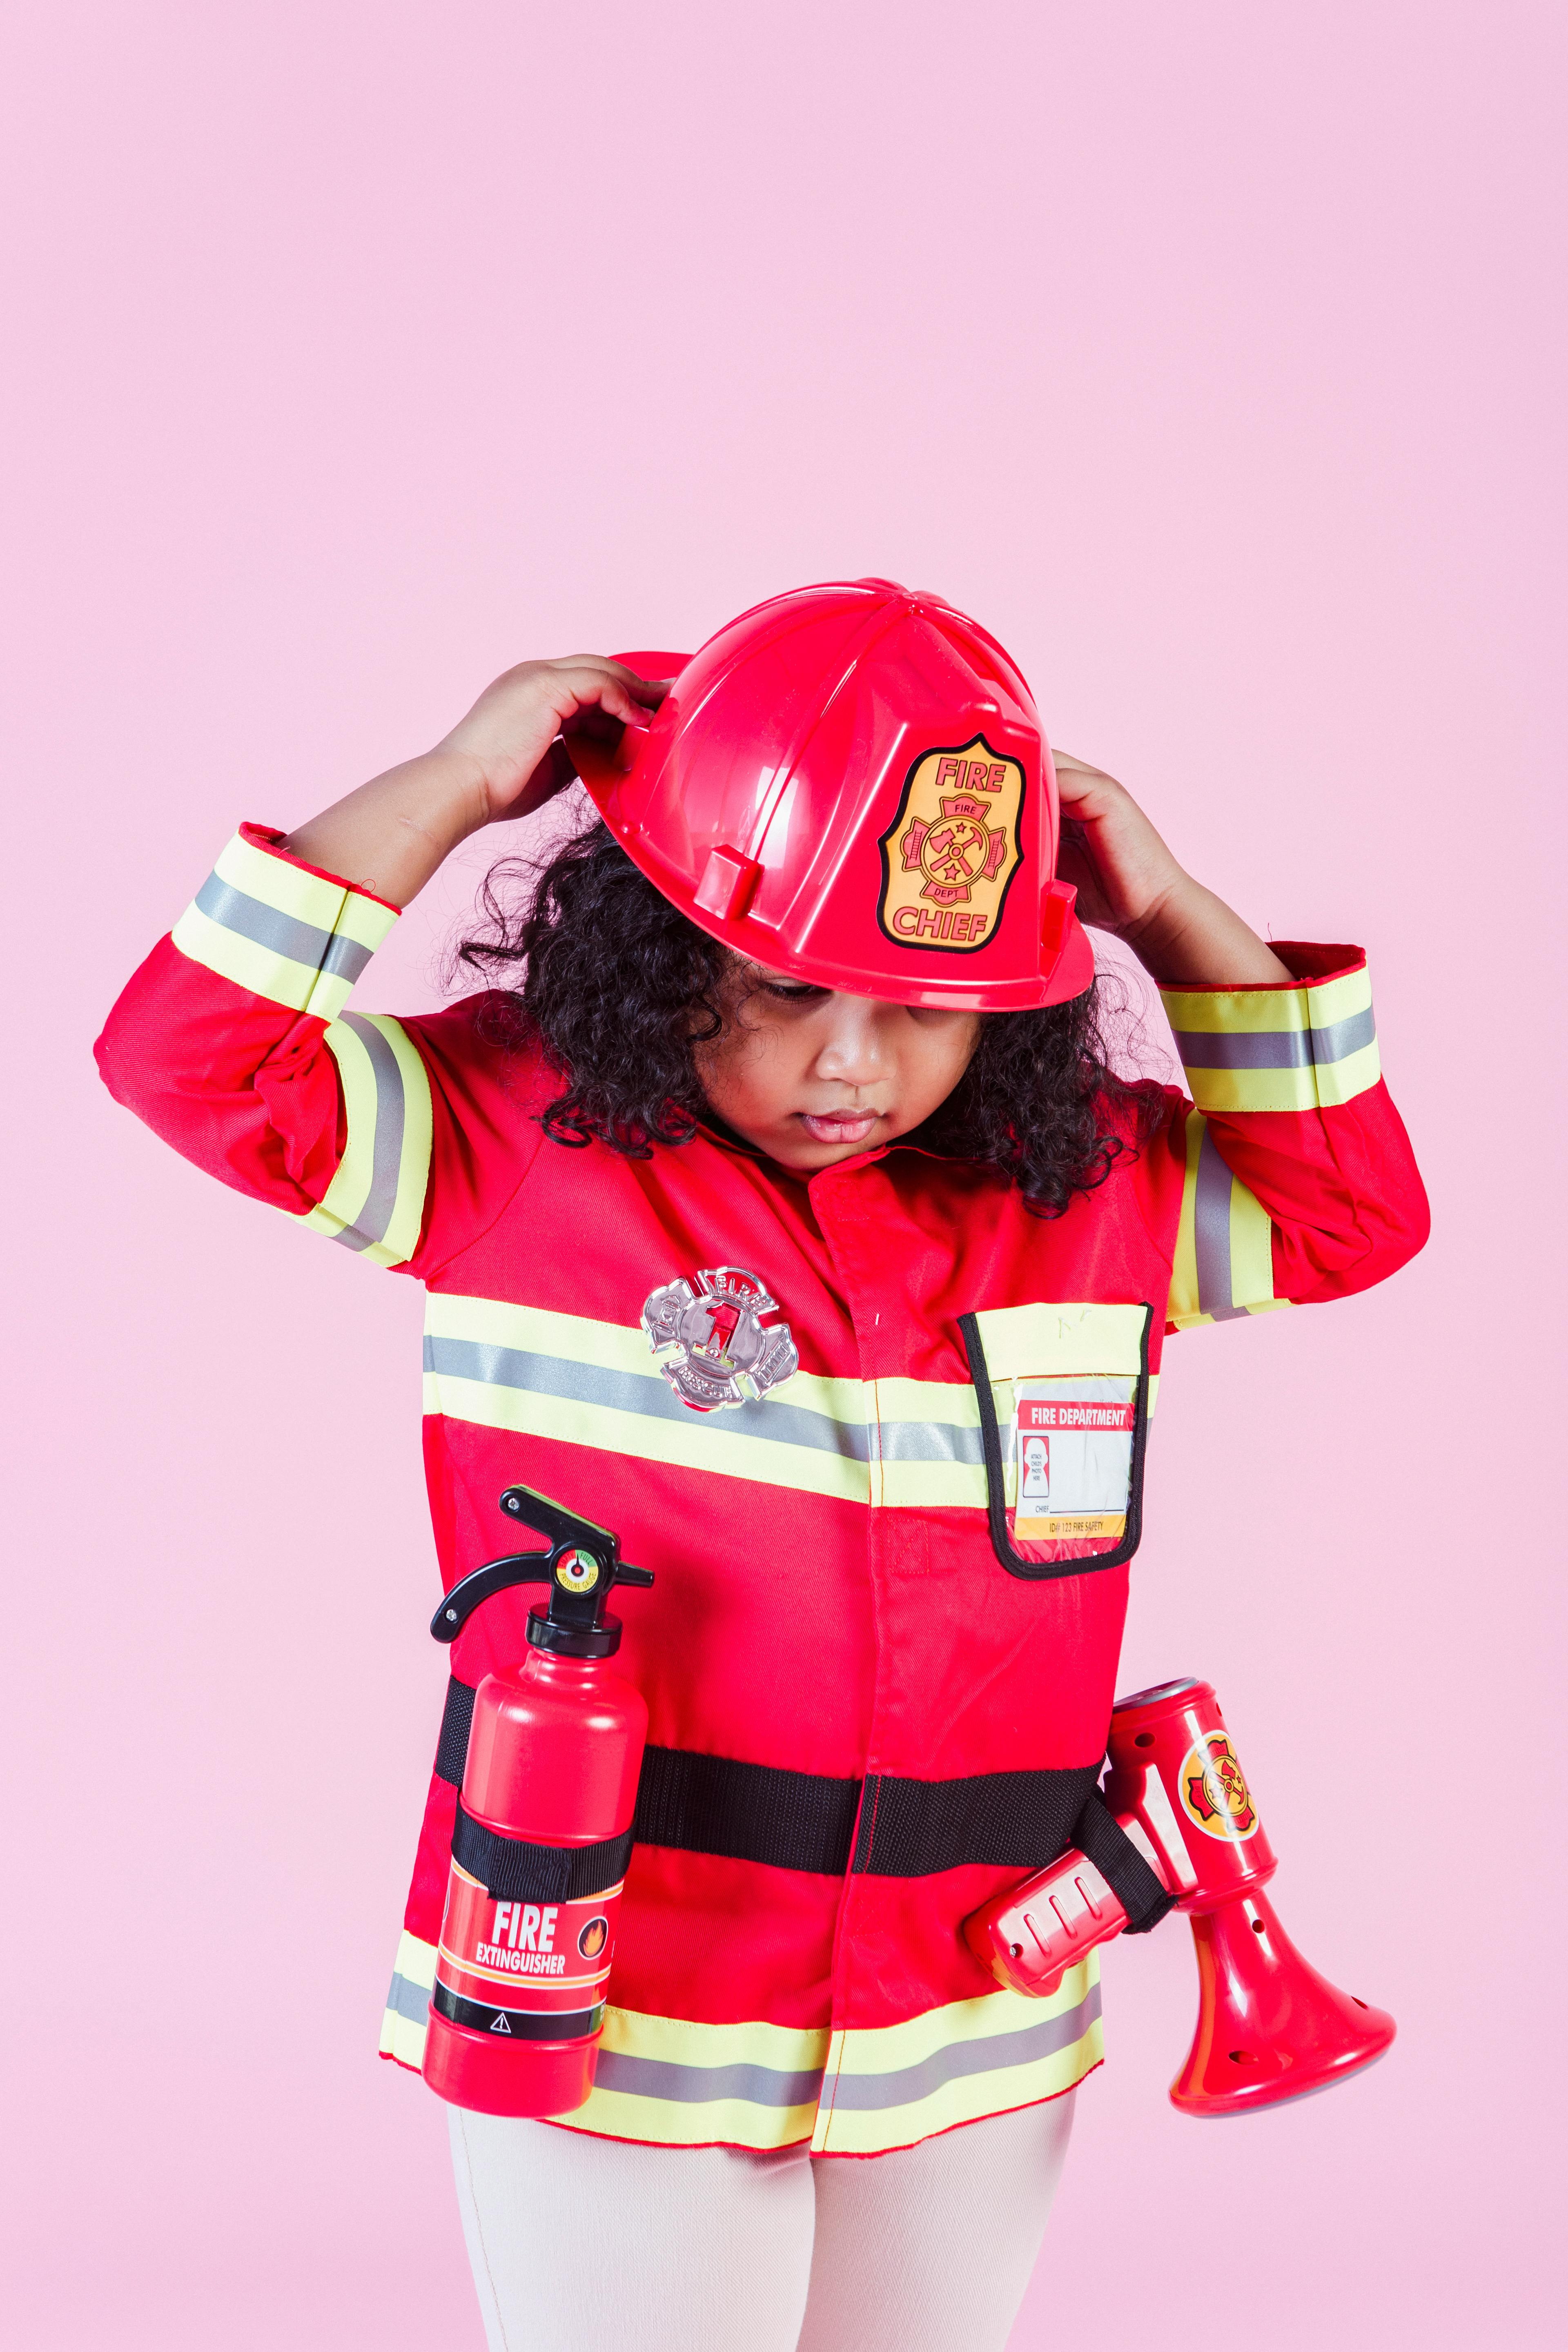extintor: (420, 1473, 670, 2126)
